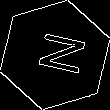N_W: (25, 30, 85, 80)
